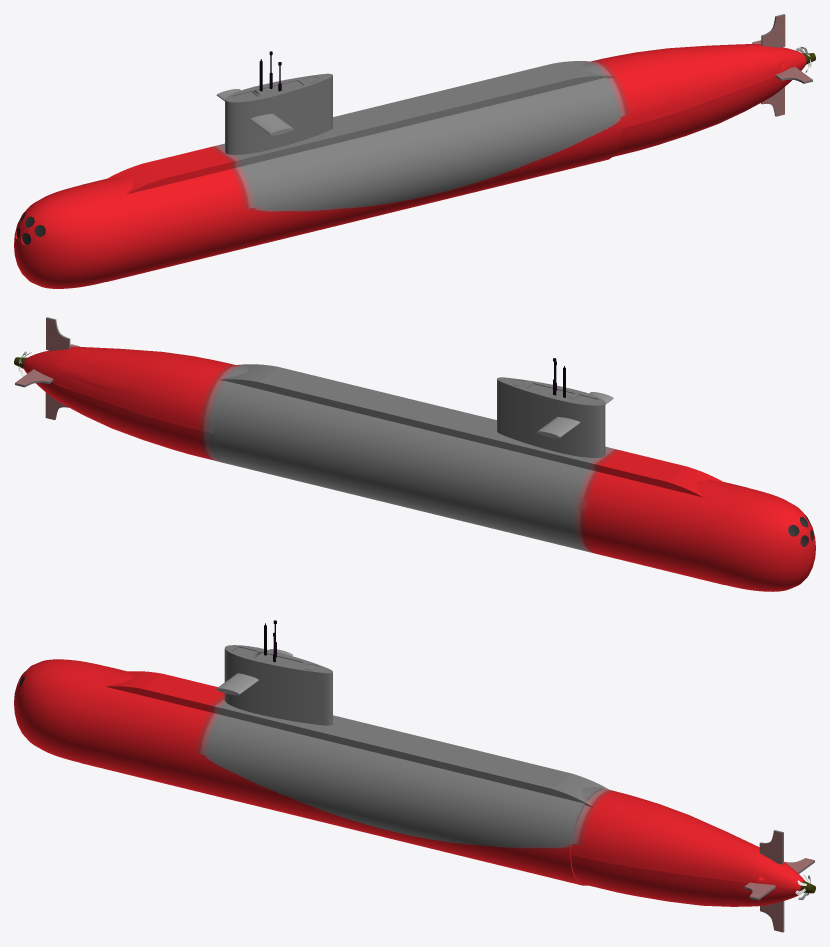
Rendered from 潜水艇.FBX.
The picture shows the model from 3 angles, top to bottom: view 1: azimuth 30°, elevation 25°; view 2: azimuth 150°, elevation 25°; view 3: azimuth 330°, elevation 25°; orthographic projection.
Parts seen in each view (by area): view 1: 潜艇体, 潜水艇_top, 潜水艇_top Y, 潜水艇_尾翼; view 2: 潜艇体, 潜水艇_top, 潜水艇_top Y, 潜水艇_尾翼; view 3: 潜艇体, 潜水艇_top, 潜水艇_top Y, 潜水艇_尾翼.
Part boxes in pixels (left/top/right/bottom): 潜艇体: left=14, top=44, right=806, bottom=288; 潜水艇_top: left=225, top=73, right=332, bottom=154; 潜水艇_top Y: left=216, top=89, right=293, bottom=135; 潜水艇_尾翼: left=761, top=14, right=785, bottom=47; 潜艇体: left=23, top=346, right=815, bottom=591; 潜水艇_top: left=497, top=377, right=605, bottom=457; 潜水艇_top Y: left=537, top=392, right=613, bottom=438; 潜水艇_尾翼: left=46, top=317, right=70, bottom=350; 潜艇体: left=14, top=659, right=804, bottom=906; 潜水艇_top: left=224, top=645, right=332, bottom=725; 潜水艇_top Y: left=216, top=649, right=292, bottom=695; 潜水艇_尾翼: left=759, top=830, right=783, bottom=864.
Size of the model in its own units: 7693 by 1710 by 906.
Materials: 7 (3 with a texture image).
